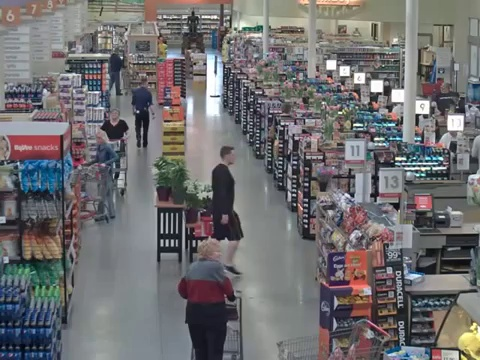face: (227, 151, 235, 163), (110, 110, 119, 118)
